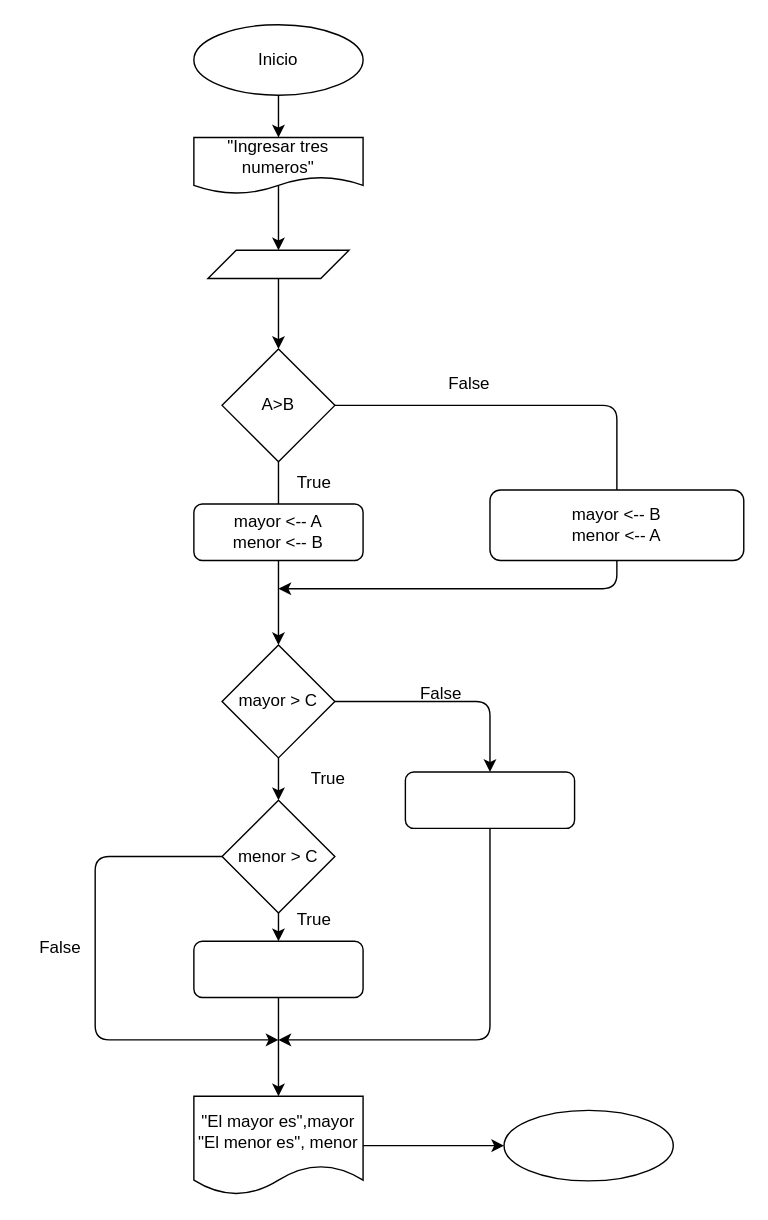
The diagram is 768 pixels wide and 1220 high, and some of its shapes have lost their labels. The shapes that lost their labels are listed below. From the top down, each one's box as (x1, y1, x2, y2) in pixels, then its label:
(207, 249, 349, 278): A,B,C
(404, 771, 575, 828): mayor <-- C
(192, 940, 363, 998): menor <-- C
(503, 1109, 673, 1181): Fin
